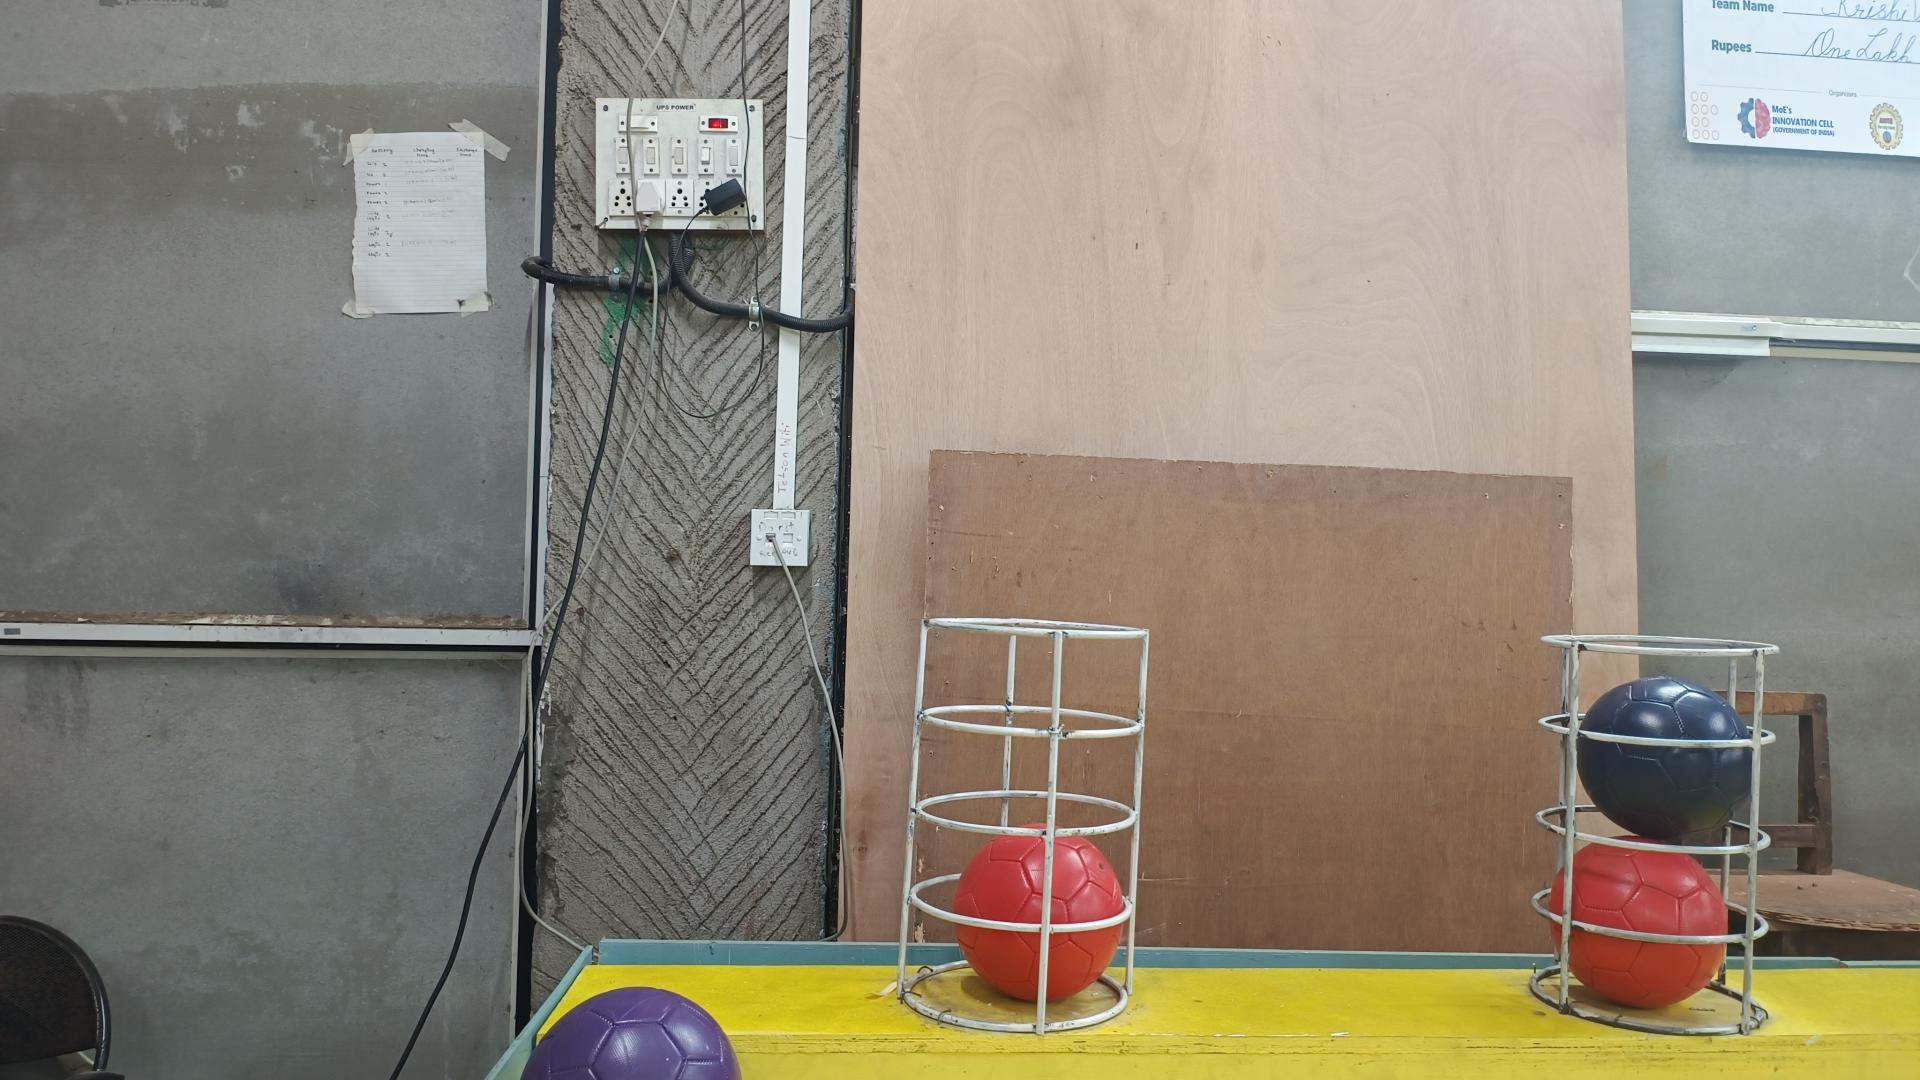dhoka: (1576, 675, 1753, 844)
laale: (951, 832, 1127, 1005), (1547, 837, 1726, 1006)
